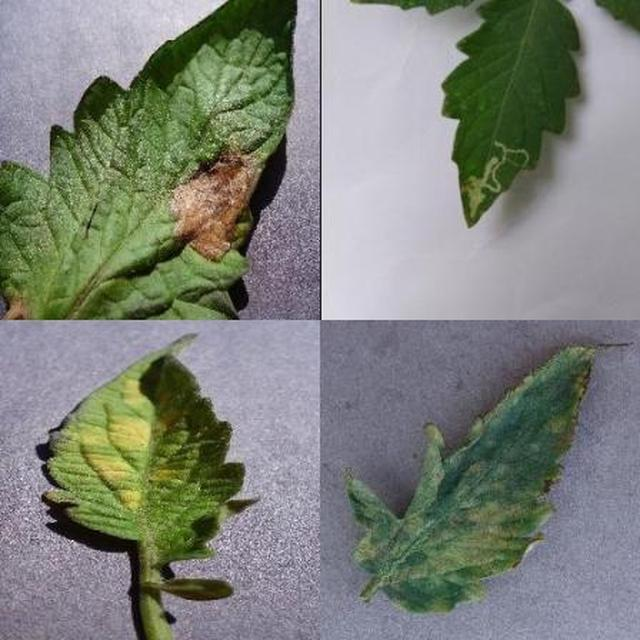Late Blight Leaf: (204, 166, 640, 640)
